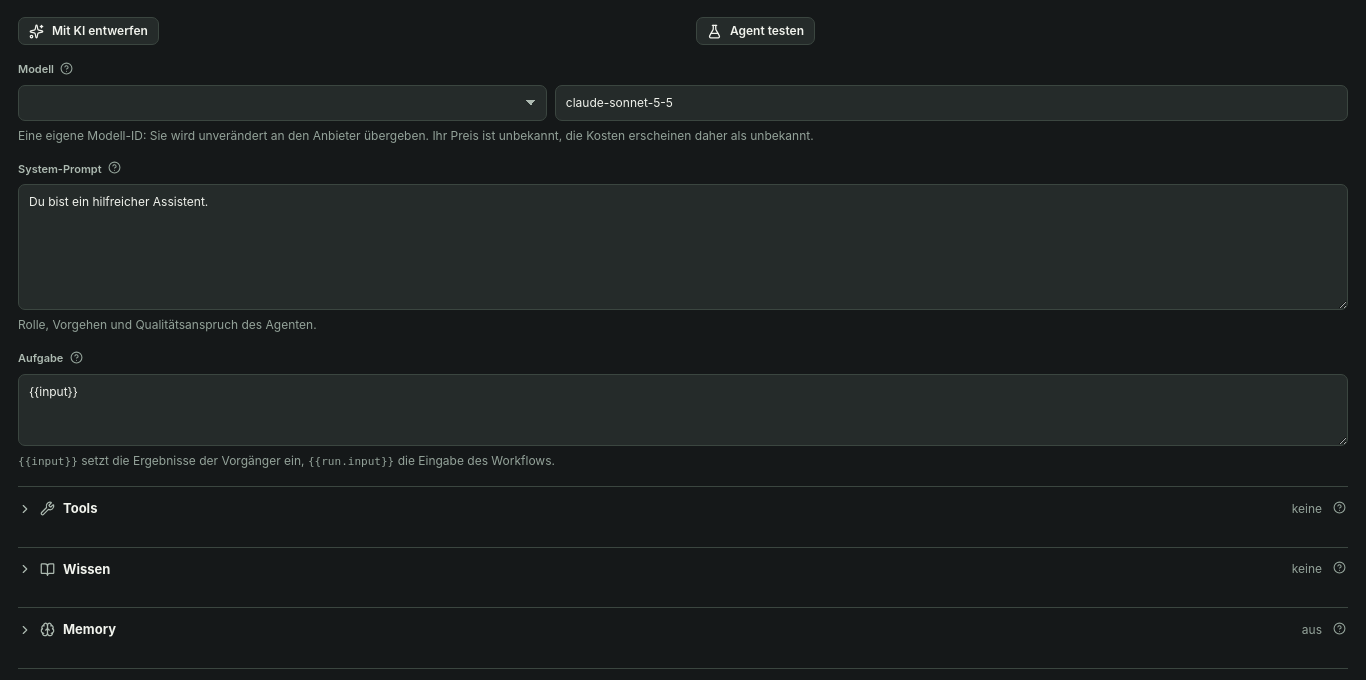
Test: AgentForm sections › keeps a long file name in its own element next to the chunk count
This screenshot has width=1366, height=680.
Click the text with class "section__title" showing "Wissen". click: (87, 569)
box: [63, 560, 110, 579]
(page scrolled)
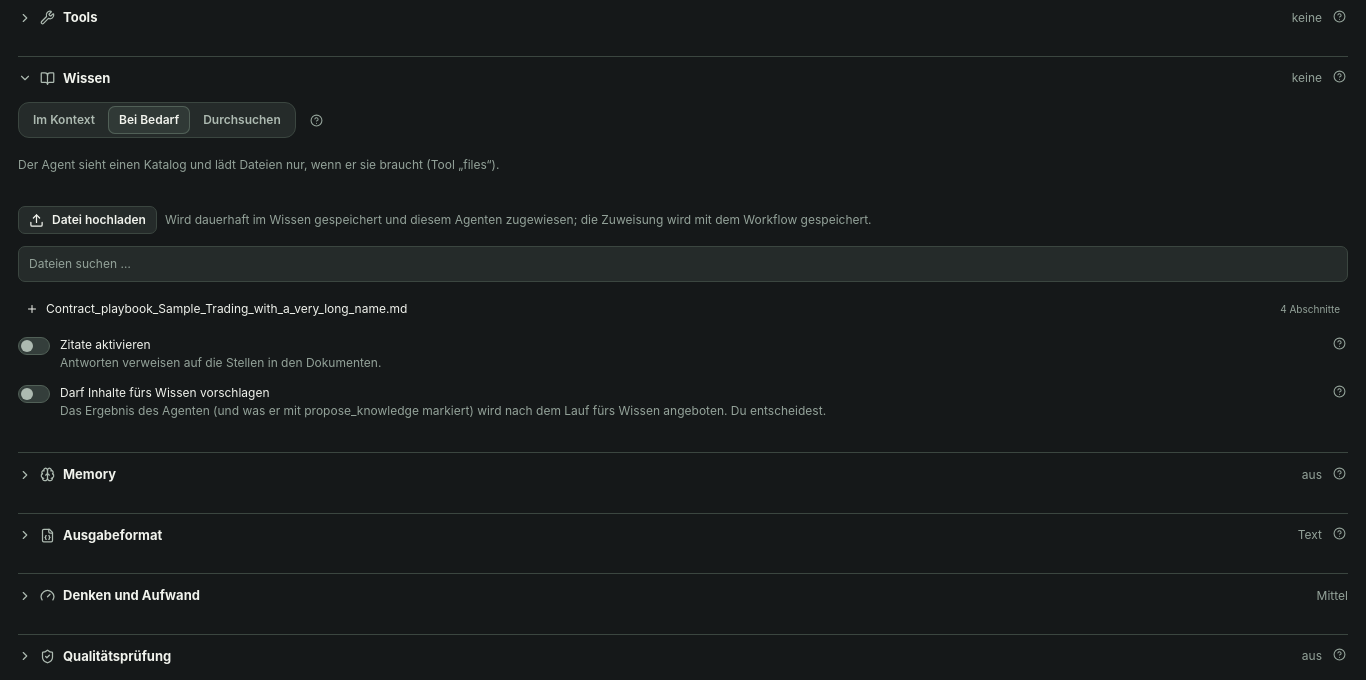
Expected: the text "4 Abschnitte" is shown, [1280, 302, 1340, 317]
